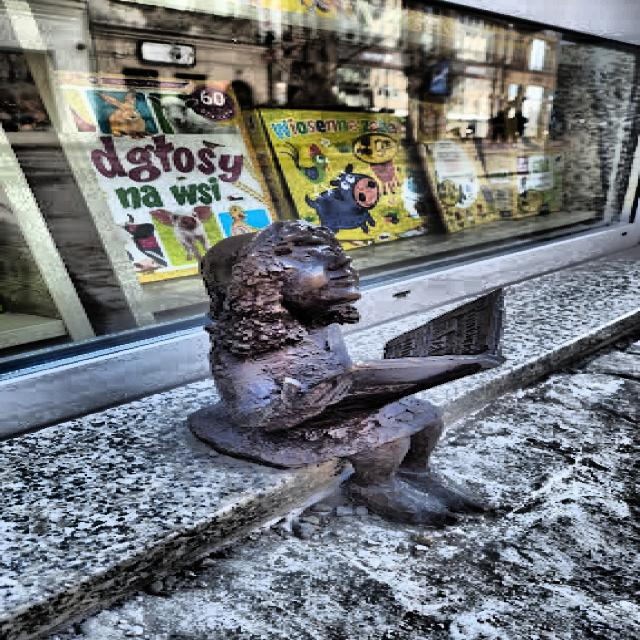Ksiegarka: (166, 217, 524, 534)
